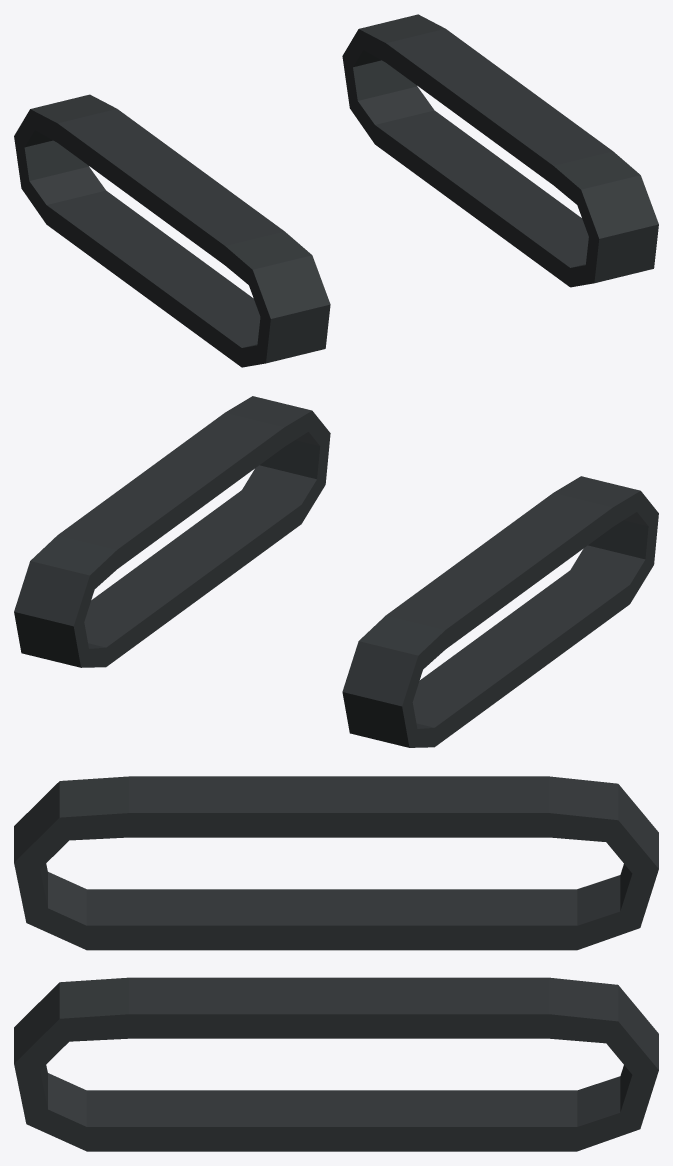
The model's file is pvo_band.glb.
3 renders of one model, top to bottom at view 1: azimuth 30°, elevation 25°; view 2: azimuth 150°, elevation 25°; view 3: azimuth 270°, elevation 25°, orthographic. The views are drawn at different scales.
Parts seen in each view (by area): view 1: pvo_band_R, pvo_band_L; view 2: pvo_band_L, pvo_band_R; view 3: pvo_band_R, pvo_band_L.
Boxes of the visible parts, x1,y1,x2,y2 form: pvo_band_R: (14, 94, 330, 367); pvo_band_L: (342, 14, 658, 287); pvo_band_L: (14, 396, 330, 667); pvo_band_R: (342, 476, 658, 747); pvo_band_R: (14, 776, 658, 950); pvo_band_L: (14, 977, 658, 1151).
Size of the model in its own units: 1.04 by 0.28 by 1.19.
1 material, 1 textured.
